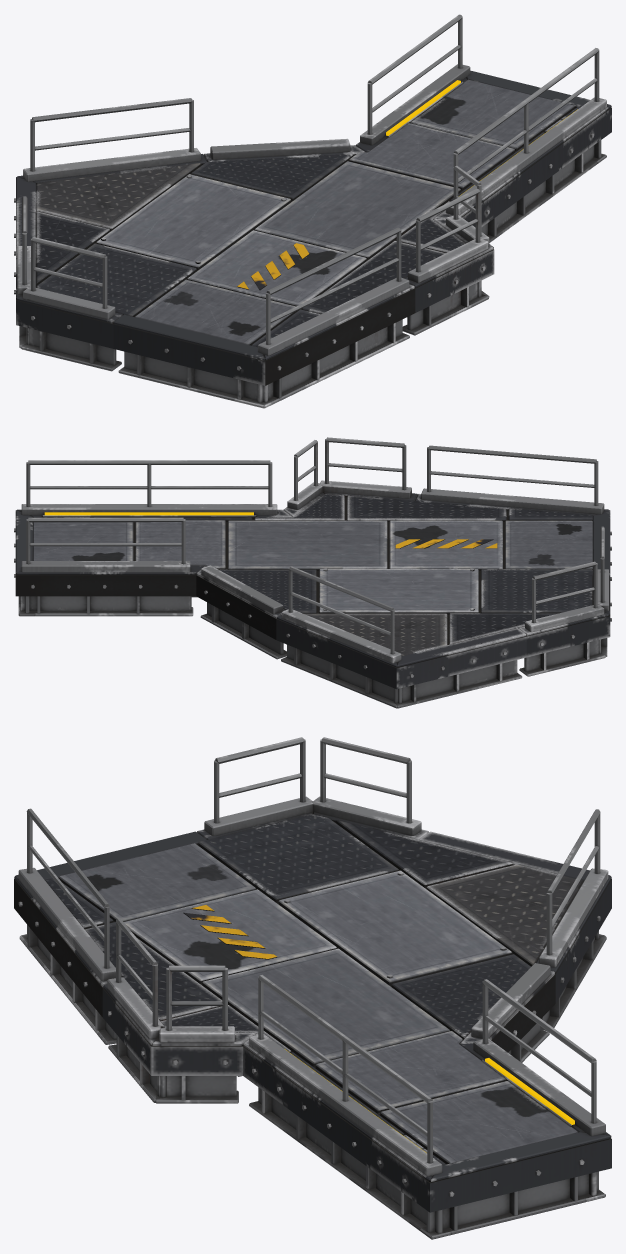
File: nodexeus-set-deck-s6.glb
3 renders of one model, top to bottom at view 1: azimuth 30°, elevation 25°; view 2: azimuth 150°, elevation 25°; view 3: azimuth 270°, elevation 25°, orthographic. The views are drawn at different scales.
Parts seen in each view (by area): view 1: set-deck-s6; view 2: set-deck-s6; view 3: set-deck-s6.
Part boxes in pixels (x1=…): set-deck-s6: x1=14, y1=14, x2=611, y2=408; set-deck-s6: x1=14, y1=437, x2=611, y2=708; set-deck-s6: x1=14, y1=737, x2=611, y2=1239.
Size of the model in its own units: 11.05 by 1.84 by 7.4.
1 material, 1 textured.
